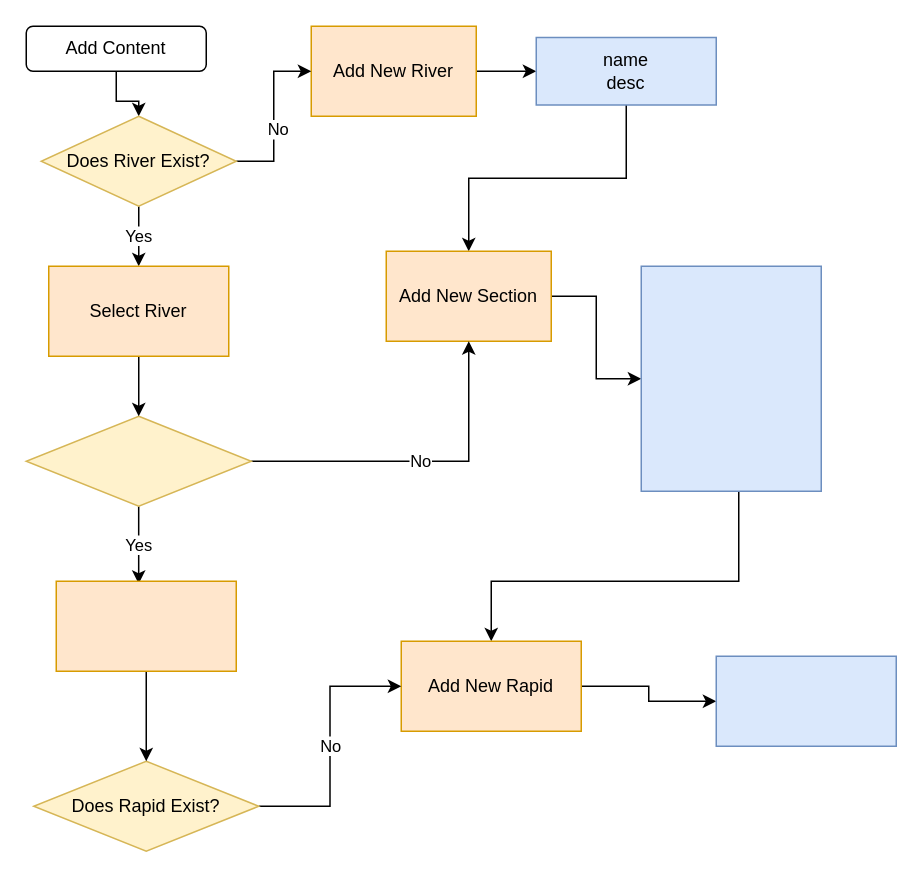
This 923x878 diagram has some shape labels left out. Here are the shapes that lost their labels. From the top down, the centre of each, then its label:
At [730,378]: "name desc overviewMap access location class putIn takeOut levelRange sponsors".
At [138,460]: "Does Section Exist?".
At [145,625]: "Select Section".
At [805,700]: "name desc riverMap map label".
